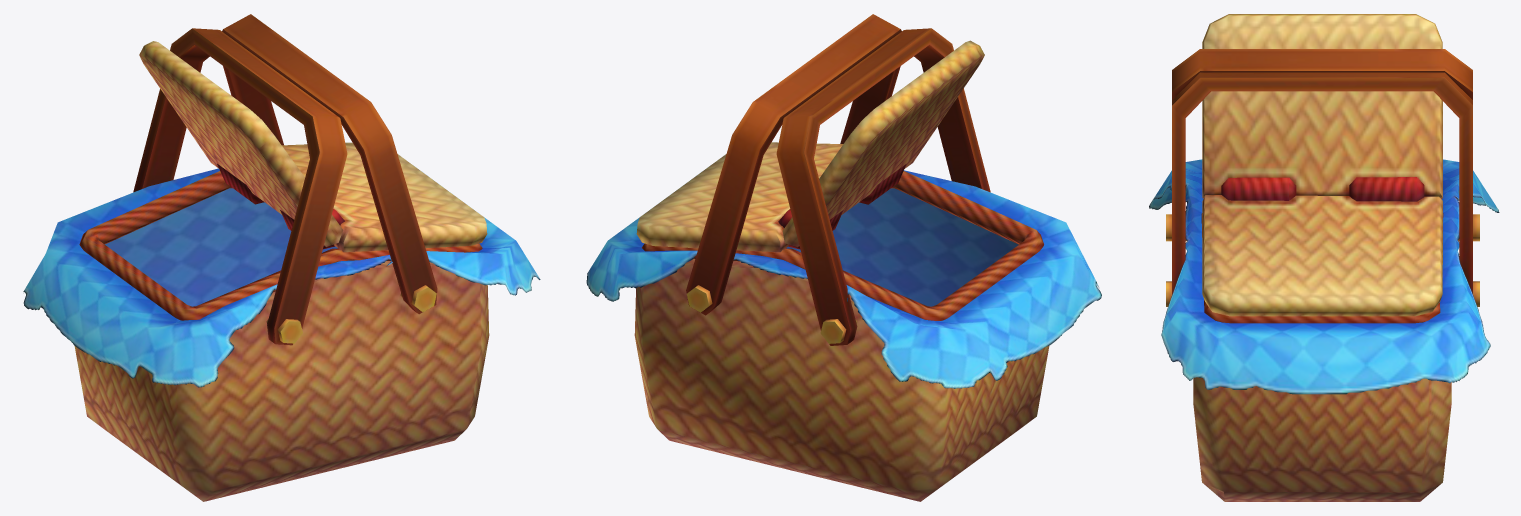
Rendered from SE_Basket_04.fbx.
The picture shows the model from 3 angles, left to right: view 1: azimuth 30°, elevation 25°; view 2: azimuth 150°, elevation 25°; view 3: azimuth 270°, elevation 25°; orthographic projection.
Parts seen in each view (by area): view 1: SE_Basket_04; view 2: SE_Basket_04; view 3: SE_Basket_04.
Part boxes in pixels (x1,y1,x2,y2): SE_Basket_04: (23,14,540,501); SE_Basket_04: (586,14,1101,501); SE_Basket_04: (1149,14,1499,501).
Bounding box in the file's own units: 2.73 × 2.38 × 2.06.
